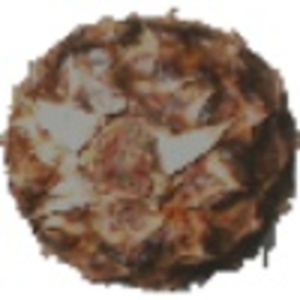abacaxi: (2, 9, 297, 288)
